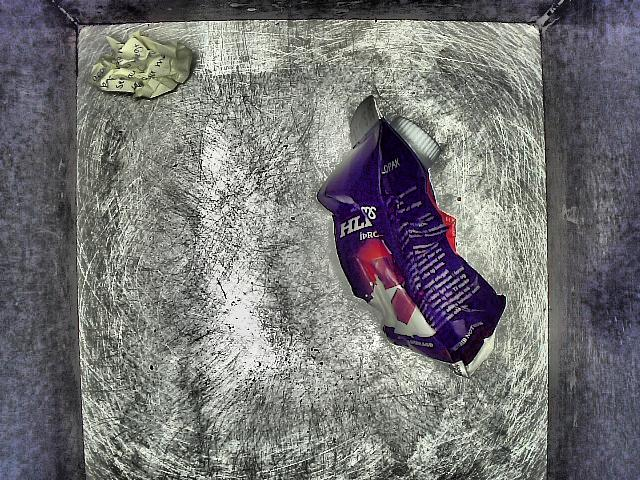Paper: (308, 87, 535, 408), (69, 22, 232, 136)
